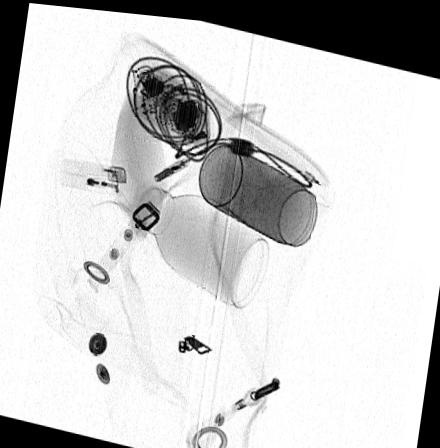Lighter: (60, 155, 127, 194)
